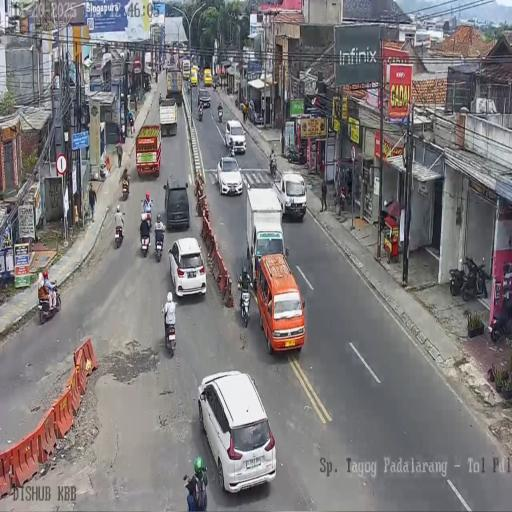3: (245, 184, 283, 285), (136, 124, 162, 178), (159, 96, 177, 138), (166, 66, 182, 107), (144, 51, 152, 75), (182, 58, 190, 80)
car: (197, 370, 277, 494), (168, 236, 206, 296), (275, 168, 307, 220), (164, 174, 190, 230), (216, 154, 243, 196), (225, 119, 246, 155), (197, 89, 211, 109), (203, 67, 212, 86), (191, 65, 198, 85)
truck: (490, 266, 512, 340), (461, 254, 487, 301), (38, 284, 61, 324), (162, 310, 177, 356), (238, 279, 251, 328), (285, 144, 304, 166), (114, 217, 125, 249), (154, 229, 164, 262), (122, 176, 130, 200), (269, 155, 277, 178), (198, 104, 204, 121), (218, 106, 223, 122), (198, 70, 202, 82), (212, 81, 217, 90), (163, 58, 167, 69), (188, 81, 191, 95), (235, 98, 239, 108), (156, 64, 159, 76)
